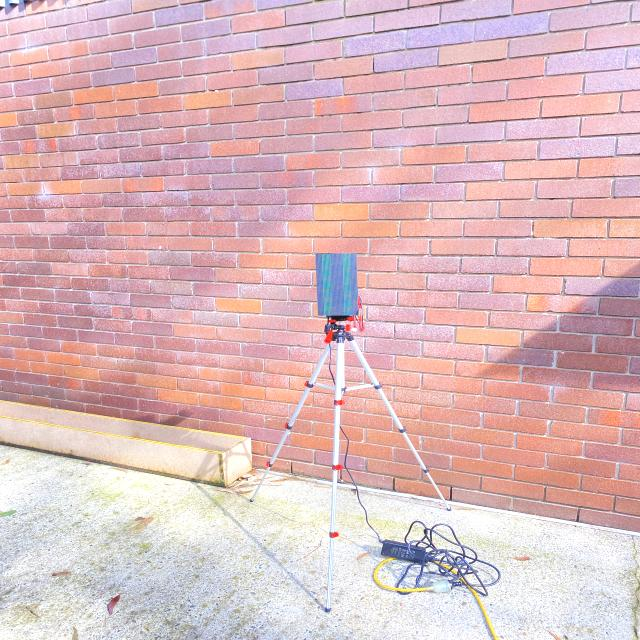matrix: (314, 250, 364, 319)
